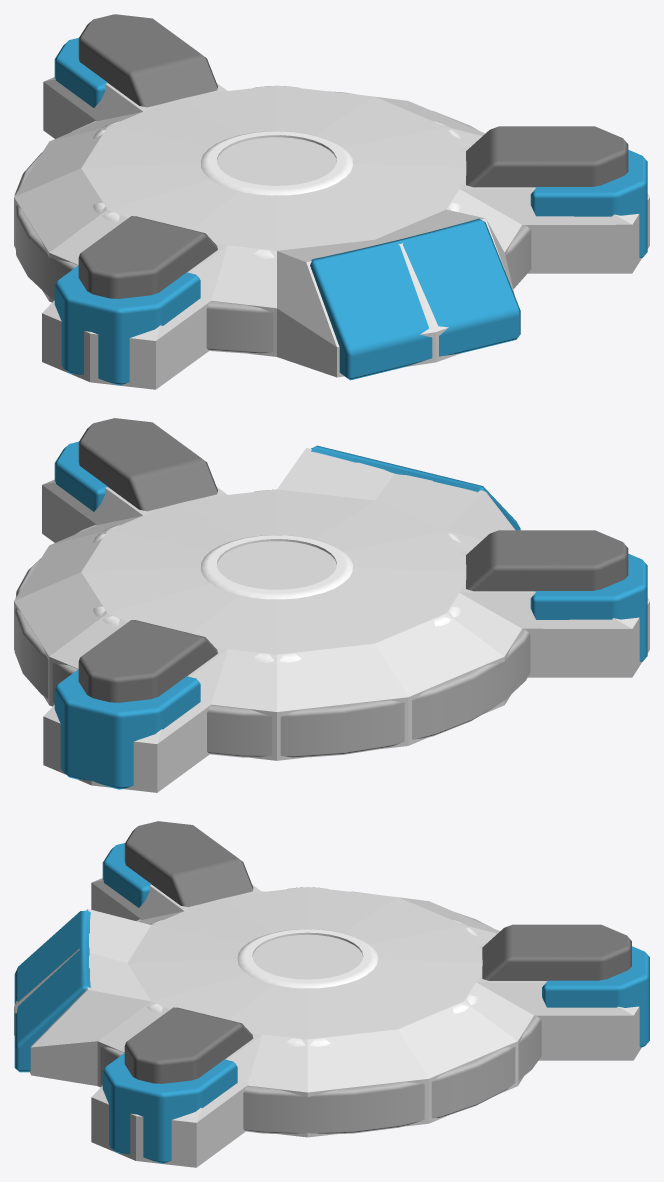
The model's file is Teleporter_Base.fbx.
The picture shows the model from 3 angles, top to bottom: view 1: azimuth 30°, elevation 25°; view 2: azimuth 150°, elevation 25°; view 3: azimuth 270°, elevation 25°; orthographic projection. The views are drawn at different scales.
Parts seen in each view (by area): view 1: COL, Cylinder.001; view 2: COL, Cylinder.001; view 3: COL, Cylinder.001.
Part boxes in pixels (x1,y1,x2,y2): COL: (14,77,649,389); Cylinder.001: (14,14,647,385); COL: (14,448,649,792); Cylinder.001: (14,418,647,789); COL: (14,878,641,1167); Cylinder.001: (14,821,649,1163).
Bounding box in the file's own units: 259 × 42.98 × 262.
